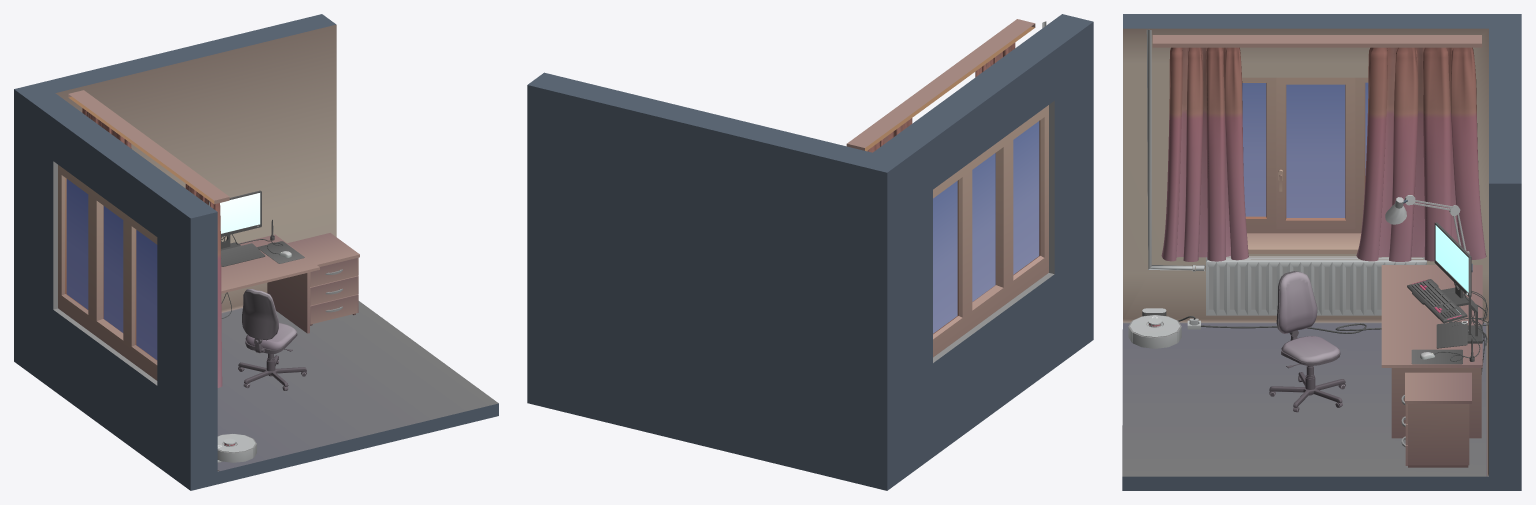
The model's file is room-optimized.glb.
3 views of the same model, side by side, from view 1: azimuth 30°, elevation 25°; view 2: azimuth 150°, elevation 25°; view 3: azimuth 270°, elevation 25° (orthographic). The views are drawn at different scales.
Visible parts, largest first — view 1: body1; view 2: body1; view 3: body1.
Boxes of the visible parts, x1,y1,x2,y2 form: body1: (14,14,498,490); body1: (527,14,1093,490); body1: (1122,14,1521,490).
Bounding box in the file's own units: 25.71 × 21.79 × 25.58.
